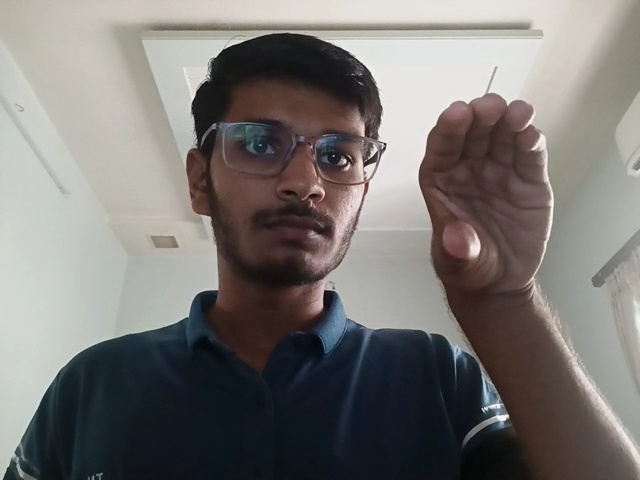No: (415, 90, 579, 315)
